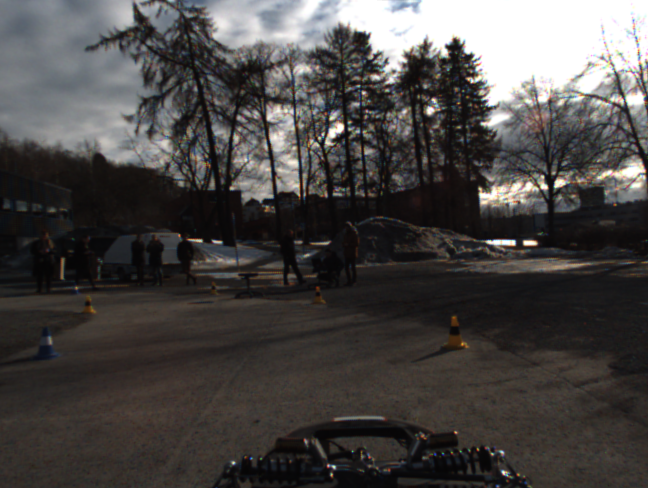cone-small-blue: (32, 327, 60, 361), (71, 284, 81, 296)
cone-small-yellow: (442, 316, 466, 347), (79, 295, 97, 317), (311, 286, 324, 304), (208, 282, 218, 296)
